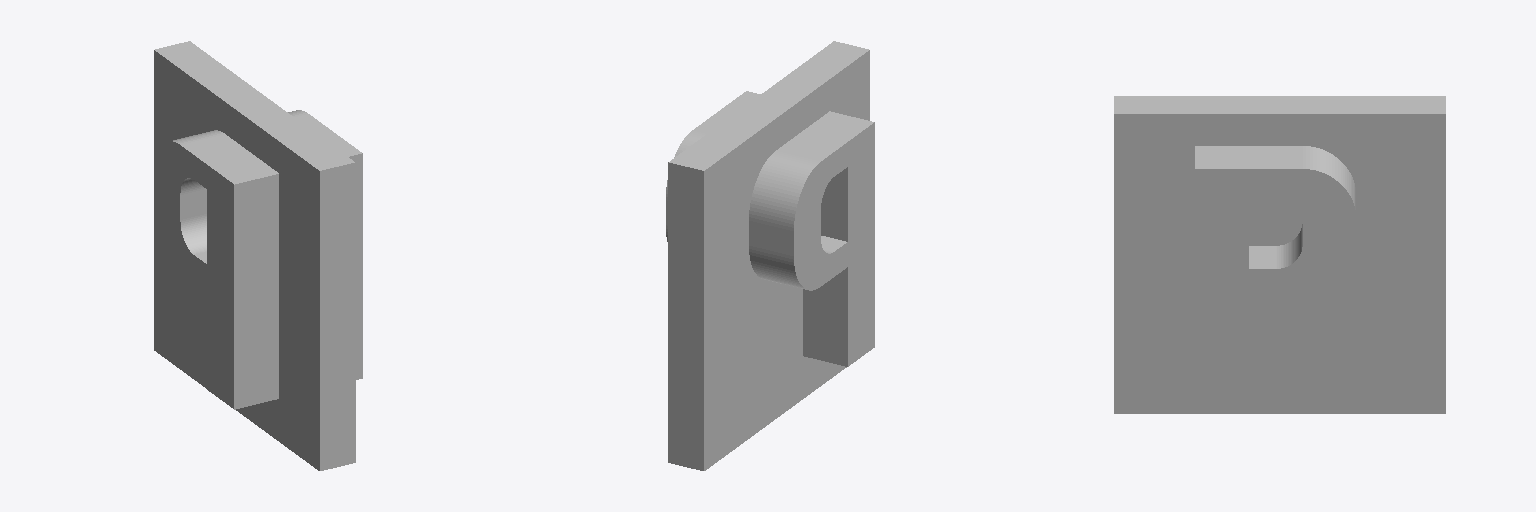
Rendered from letter_P.obj.
3 renders of one model, left to right at view 1: azimuth 30°, elevation 25°; view 2: azimuth 150°, elevation 25°; view 3: azimuth 270°, elevation 25°, orthographic.
Parts seen in each view (by area): view 1: window, Text; view 2: window, Text; view 3: window, Text.
Boxes of the visible parts, box(x1,y1,x2,y2) form: window: box(154, 41, 355, 470); Text: box(154, 110, 362, 409); window: box(668, 41, 869, 470); Text: box(666, 91, 874, 366); window: box(1114, 96, 1445, 413); Text: box(1195, 146, 1355, 393).
Size of the model in its own units: 0.894 by 2 by 2.